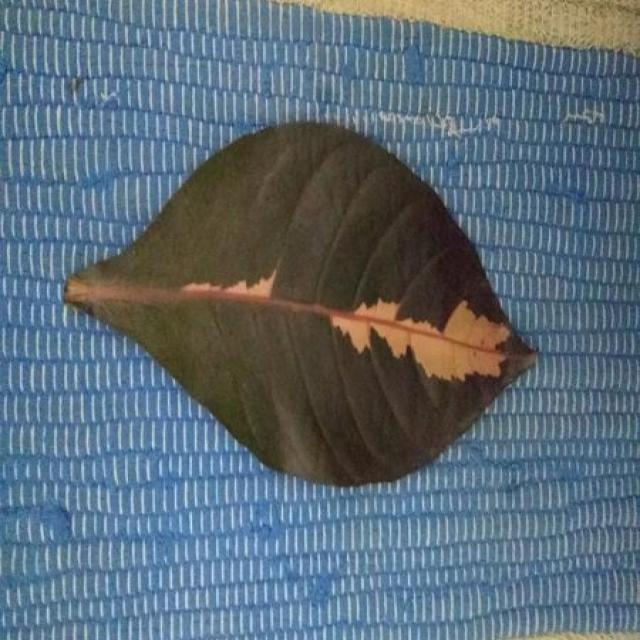caricature: (3, 0, 637, 639), (65, 122, 537, 486)
